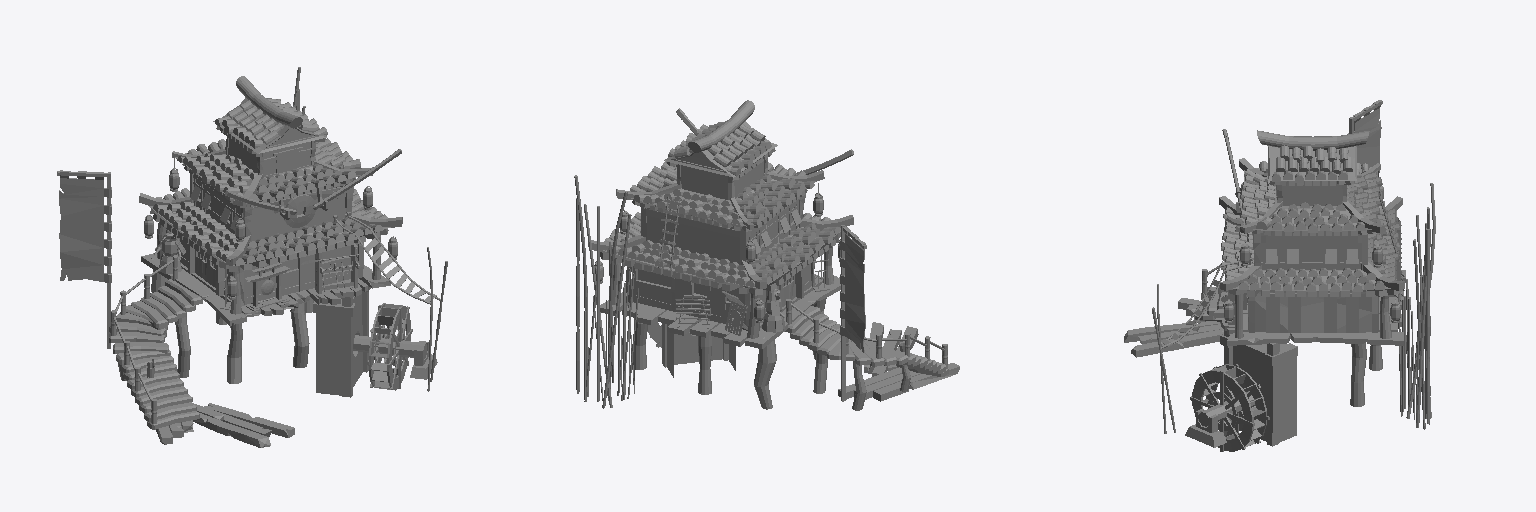
Rendered from dojo.obj.
The picture shows the model from 3 angles: view 1: azimuth 30°, elevation 25°; view 2: azimuth 150°, elevation 25°; view 3: azimuth 270°, elevation 25°; orthographic projection.
Parts seen in each view (by area): view 1: Object005; view 2: Object005; view 3: Object005.
Part boxes in pixels (x1,y1,x2,y2): Object005: (57, 67, 447, 447); Object005: (574, 100, 959, 410); Object005: (1124, 100, 1435, 451).
Bounding box in the file's own units: 10.09 × 9.03 × 9.14.